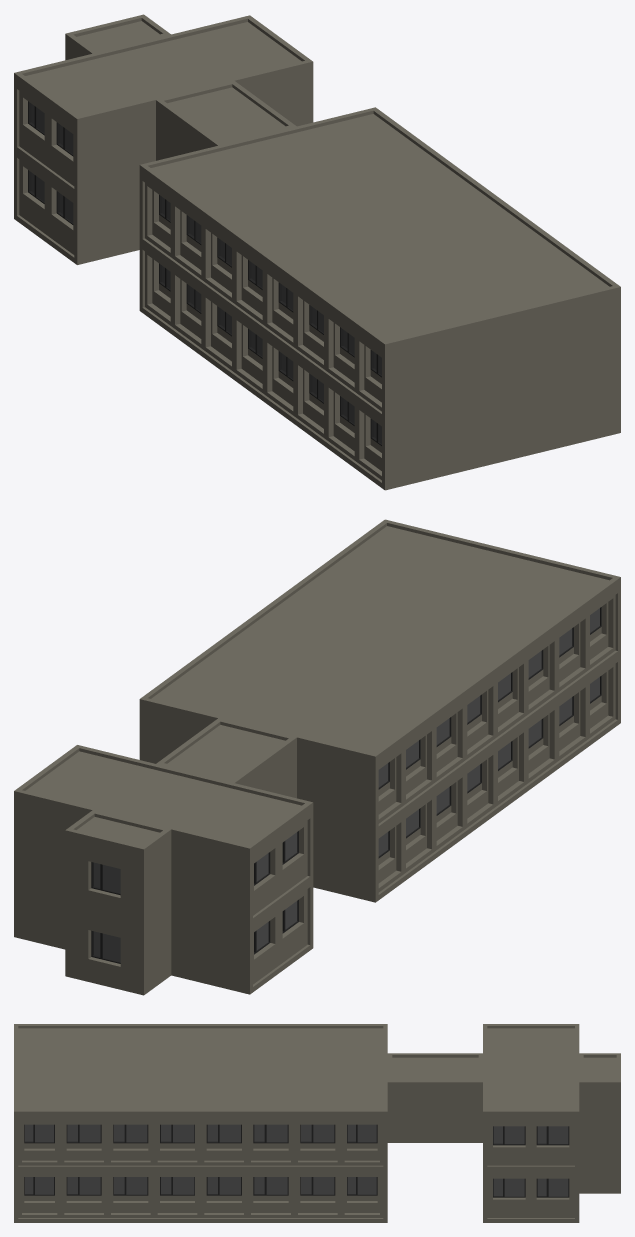
The model's file is anglais ceil.gltf.
3 renders of one model, top to bottom at view 1: azimuth 30°, elevation 25°; view 2: azimuth 150°, elevation 25°; view 3: azimuth 270°, elevation 25°, orthographic. The views are drawn at different scales.
Parts seen in each view (by area): view 1: anglais A; view 2: anglais A; view 3: anglais A.
Boxes of the visible parts, x1,y1,x2,y2 form: anglais A: [14, 14, 620, 490]; anglais A: [14, 519, 620, 995]; anglais A: [14, 1024, 620, 1222].
Bounding box in the file's own units: 23.35 × 13.81 × 68.28.
Materials: 1 (1 with a texture image).
